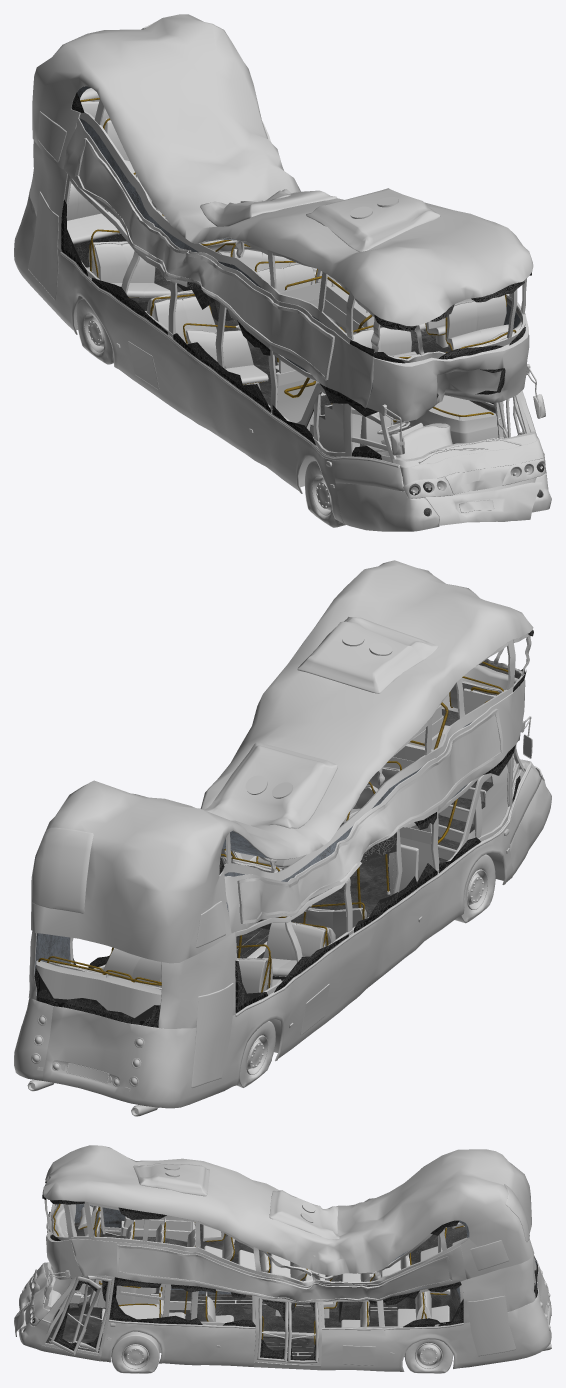
Rendered from Busa_largedamage.fbx.
3 views of the same model, one above another, from view 1: azimuth 30°, elevation 25°; view 2: azimuth 150°, elevation 25°; view 3: azimuth 270°, elevation 25° (orthographic). The views are drawn at different scales.
Parts seen in each view (by area): view 1: LODGroup_1_MainMesh_1_SubMesh_6, LODGroup_1_MainMesh_1_SubMesh_1, LODGroup_1_MainMesh_1_SubMesh_4, LODGroup_1_MainMesh_1_SubMesh_2, LODGroup_1_MainMesh_1_SubMesh_7, LODGroup_1_MainMesh_1_SubMesh_3; view 2: LODGroup_1_MainMesh_1_SubMesh_6, LODGroup_1_MainMesh_1_SubMesh_1, LODGroup_1_MainMesh_1_SubMesh_4, LODGroup_1_MainMesh_1_SubMesh_2, LODGroup_1_MainMesh_1_SubMesh_7, LODGroup_1_MainMesh_1_SubMesh_3, LODGroup_1_MainMesh_1_SubMesh_5; view 3: LODGroup_1_MainMesh_1_SubMesh_1, LODGroup_1_MainMesh_1_SubMesh_6, LODGroup_1_MainMesh_1_SubMesh_4, LODGroup_1_MainMesh_1_SubMesh_3, LODGroup_1_MainMesh_1_SubMesh_2, LODGroup_1_MainMesh_1_SubMesh_7.
Boxes of the visible parts, x1,y1,x2,y2 form: LODGroup_1_MainMesh_1_SubMesh_6: [32, 14, 551, 531]; LODGroup_1_MainMesh_1_SubMesh_1: [14, 22, 545, 527]; LODGroup_1_MainMesh_1_SubMesh_4: [67, 88, 538, 500]; LODGroup_1_MainMesh_1_SubMesh_2: [61, 92, 544, 516]; LODGroup_1_MainMesh_1_SubMesh_7: [77, 86, 522, 427]; LODGroup_1_MainMesh_1_SubMesh_3: [73, 234, 451, 426]; LODGroup_1_MainMesh_1_SubMesh_6: [31, 560, 551, 963]; LODGroup_1_MainMesh_1_SubMesh_1: [14, 634, 532, 1108]; LODGroup_1_MainMesh_1_SubMesh_4: [36, 665, 529, 1017]; LODGroup_1_MainMesh_1_SubMesh_2: [34, 630, 533, 1027]; LODGroup_1_MainMesh_1_SubMesh_7: [34, 660, 521, 1023]; LODGroup_1_MainMesh_1_SubMesh_3: [236, 709, 493, 980]; LODGroup_1_MainMesh_1_SubMesh_5: [27, 852, 504, 1116]; LODGroup_1_MainMesh_1_SubMesh_1: [17, 1184, 551, 1373]; LODGroup_1_MainMesh_1_SubMesh_6: [14, 1145, 534, 1361]; LODGroup_1_MainMesh_1_SubMesh_4: [25, 1204, 536, 1355]; LODGroup_1_MainMesh_1_SubMesh_3: [45, 1224, 536, 1361]; LODGroup_1_MainMesh_1_SubMesh_2: [23, 1181, 538, 1360]; LODGroup_1_MainMesh_1_SubMesh_7: [51, 1203, 536, 1344].
Size of the model in its own units: 308 by 440 by 1135.
